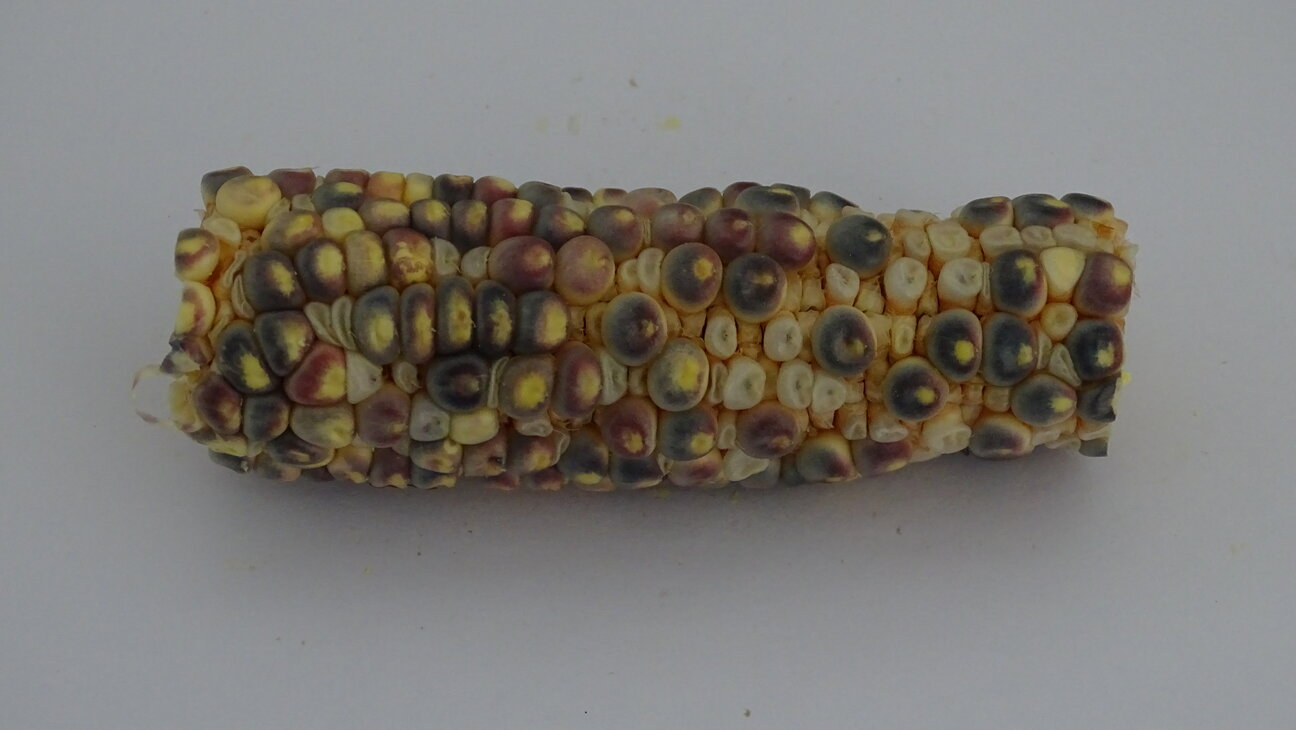corn: (989, 249, 1051, 318)
